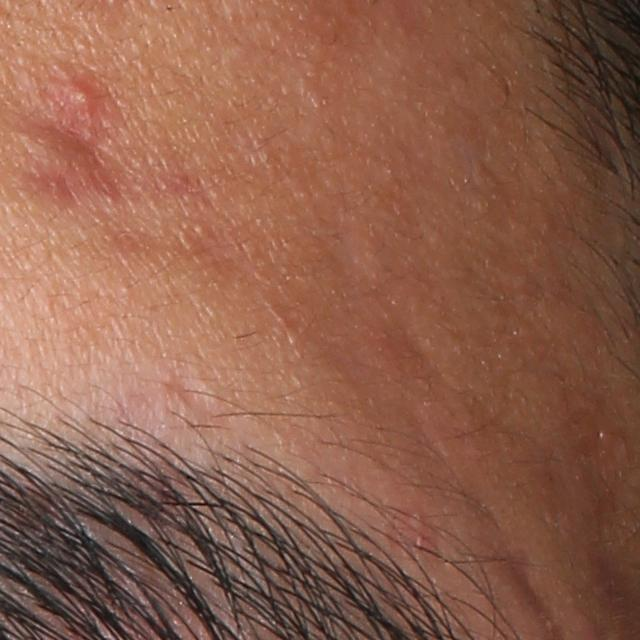atrophic_scar: (161, 370, 218, 420)
papule: (53, 76, 115, 126)
